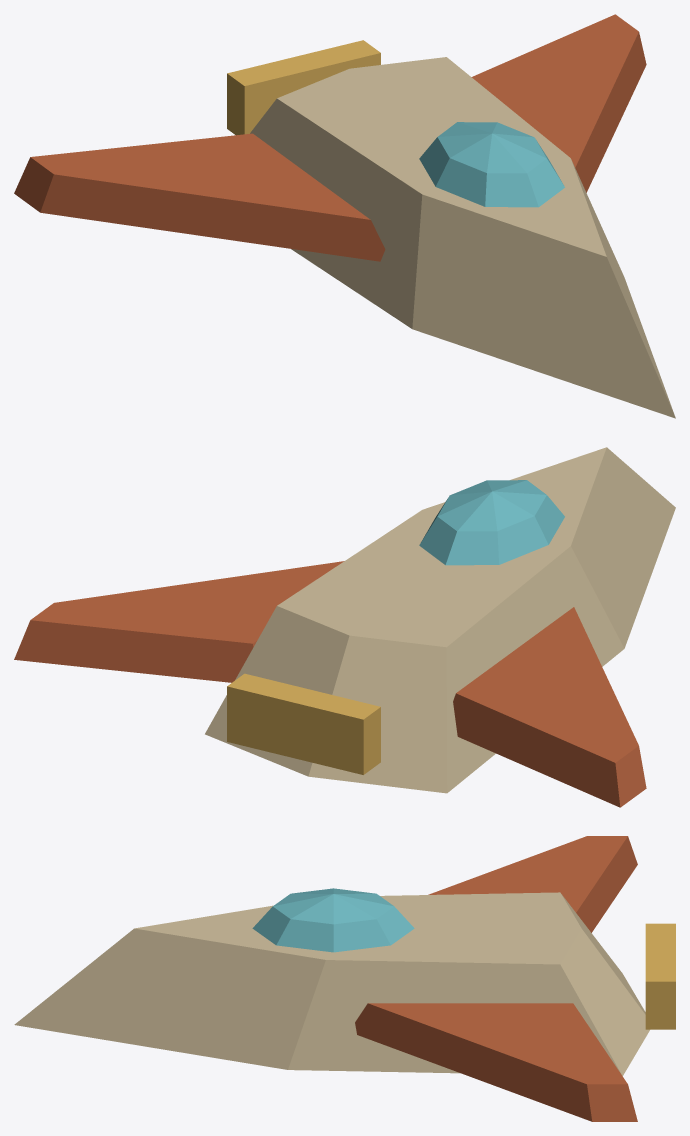
File: ship.gltf
3 views of the same model, one above another, from view 1: azimuth 30°, elevation 25°; view 2: azimuth 150°, elevation 25°; view 3: azimuth 270°, elevation 25° (orthographic). The views are drawn at different scales.
Parts seen in each view (by area): view 1: hull, wings, canopy, engine; view 2: hull, wings, engine, canopy; view 3: hull, wings, canopy, engine.
Boxes of the visible parts, x1=… form: hull: x1=250, y1=57, x2=675, y2=418; wings: x1=14, y1=14, x2=646, y2=261; canopy: x1=419, y1=122, x2=564, y2=207; engine: x1=227, y1=40, x2=380, y2=135; hull: x1=205, y1=447, x2=675, y2=793; wings: x1=14, y1=561, x2=646, y2=807; engine: x1=227, y1=673, x2=380, y2=774; canopy: x1=419, y1=480, x2=564, y2=565; hull: x1=14, y1=892, x2=649, y2=1075; wings: x1=355, y1=836, x2=637, y2=1121; canopy: x1=252, y1=888, x2=414, y2=952; engine: x1=645, y1=923, x2=675, y2=1029.
Size of the model in its own units: 4 by 0.95 by 4.35.
